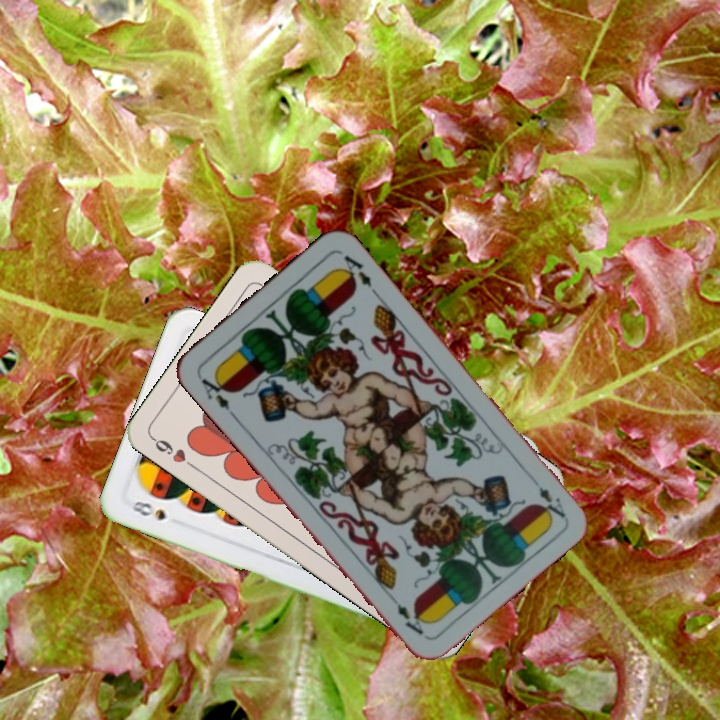EA: (194, 369, 238, 420), (534, 483, 569, 521)
H9: (148, 433, 200, 472)
S8: (127, 496, 169, 523)
